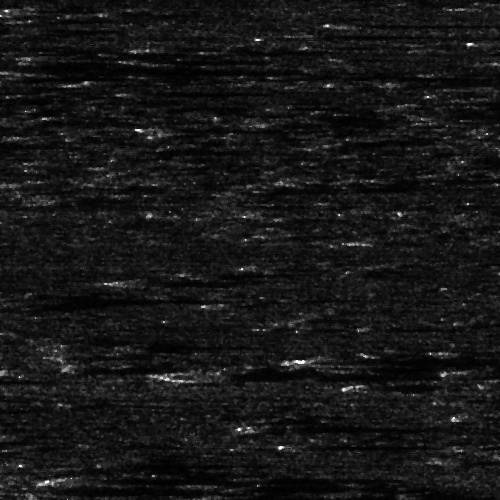object: (0, 288, 121, 305), (274, 351, 367, 368), (149, 367, 242, 380), (154, 491, 269, 500), (25, 472, 118, 483), (0, 64, 85, 73), (0, 483, 85, 490), (104, 275, 157, 286), (213, 481, 276, 490), (268, 441, 341, 448), (257, 421, 298, 430), (299, 22, 352, 27), (0, 73, 32, 78), (452, 367, 493, 370)
shadow: (23, 64, 427, 73), (7, 288, 212, 305), (0, 57, 266, 70), (71, 472, 358, 483), (320, 351, 500, 368), (195, 367, 416, 380), (39, 483, 422, 490), (212, 491, 500, 500), (1, 73, 500, 78), (277, 421, 480, 430), (245, 481, 448, 490), (131, 275, 258, 286), (325, 22, 483, 27), (305, 441, 407, 448), (0, 375, 35, 382), (473, 367, 500, 370)
